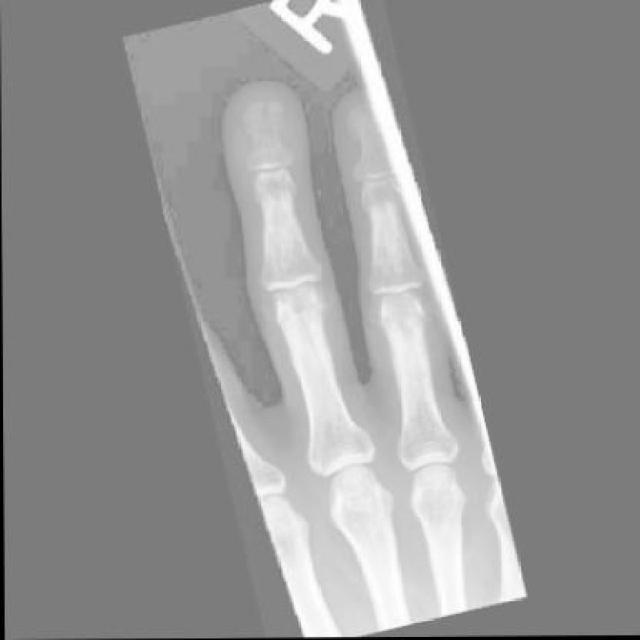Fracture: (234, 99, 290, 164), (340, 105, 382, 152)
